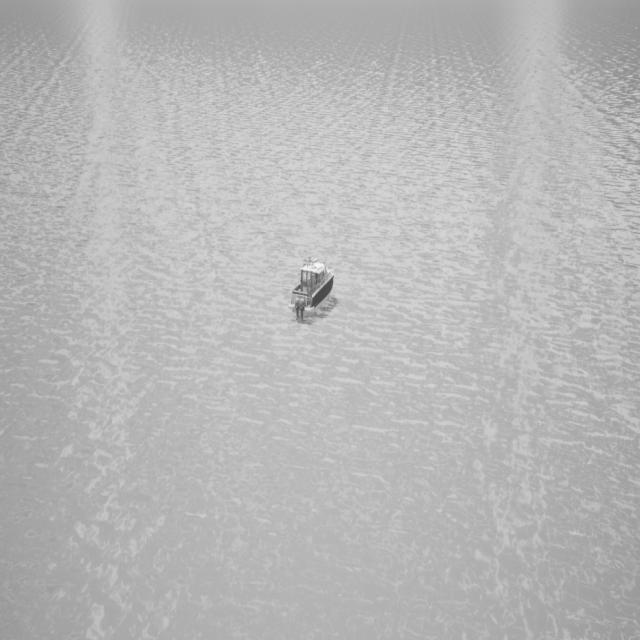ship: (290, 259, 334, 324)
